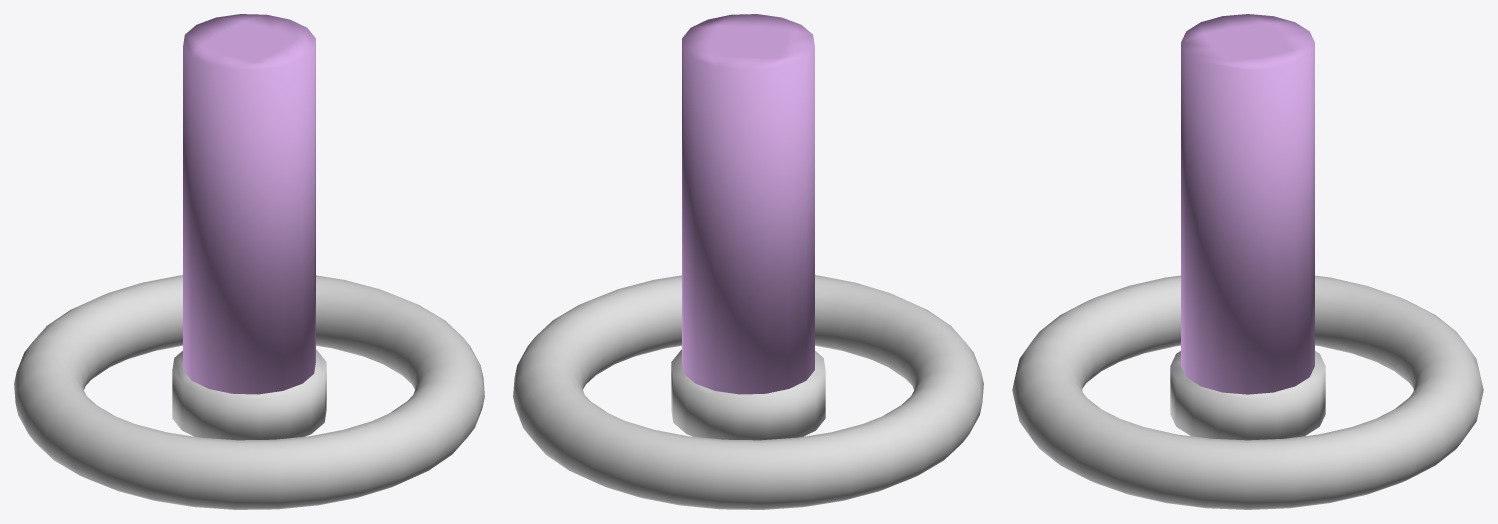
The model's file is ObjectIndicator.fbx.
The picture shows the model from 3 angles, left to right: view 1: azimuth 30°, elevation 25°; view 2: azimuth 150°, elevation 25°; view 3: azimuth 270°, elevation 25°; orthographic projection.
Visible parts, largest first — view 1: ObjectIndicator; view 2: ObjectIndicator; view 3: ObjectIndicator.
Part boxes in pixels (x1,y1,x2,y2): ObjectIndicator: (14,14,484,509); ObjectIndicator: (513,14,983,509); ObjectIndicator: (1012,14,1483,509).
Bounding box in the file's own units: 72.1 × 64.04 × 72.1.
